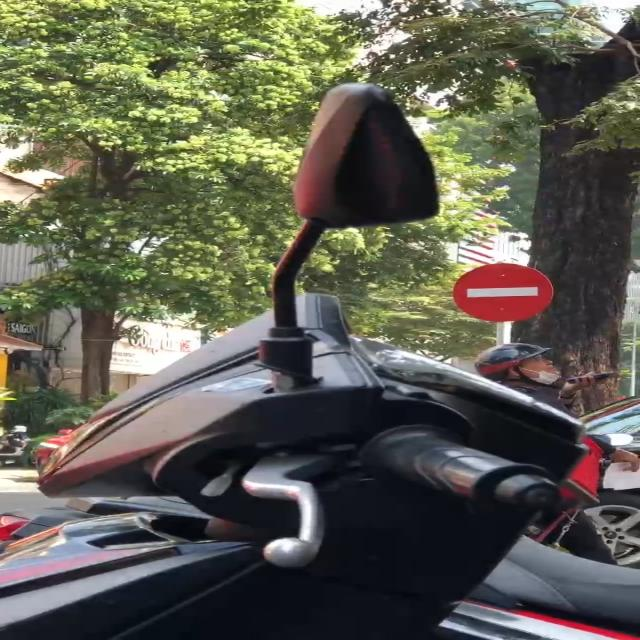Bien bao cam di nguoc chieu: (443, 257, 556, 327)
